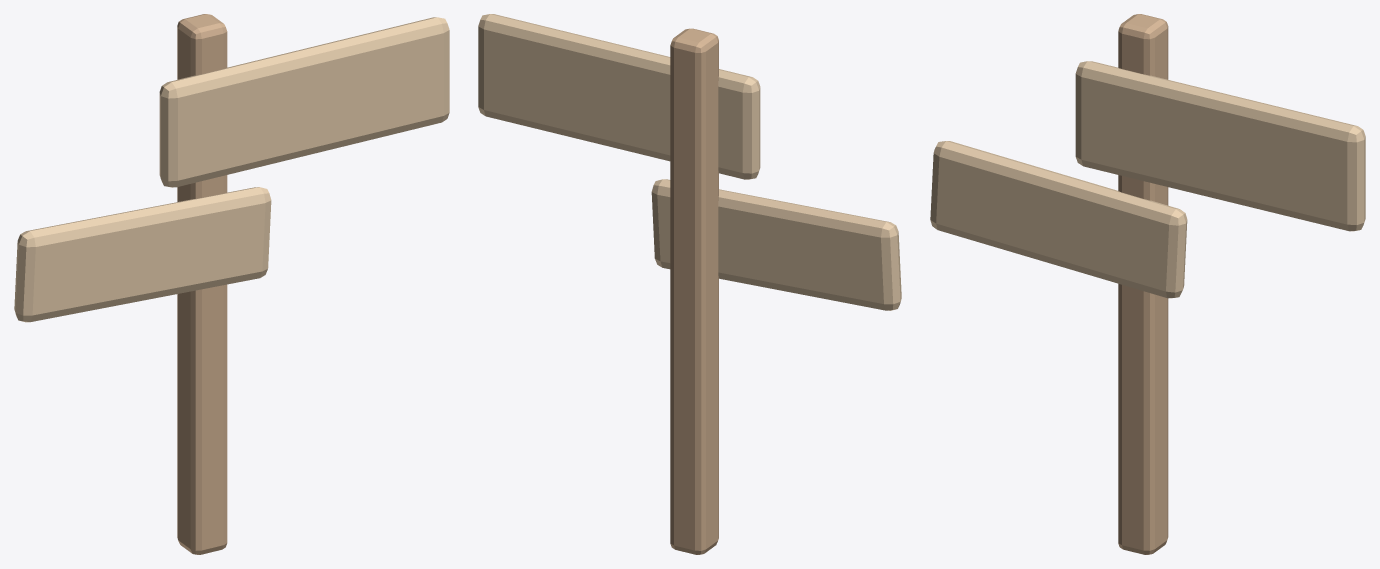
The model's file is signpost.glb.
3 views of the same model, side by side, from view 1: azimuth 30°, elevation 25°; view 2: azimuth 150°, elevation 25°; view 3: azimuth 330°, elevation 25° (orthographic). The views are drawn at different scales.
Parts seen in each view (by area): view 1: signpost; view 2: signpost; view 3: signpost.
Part boxes in pixels (box(x1,y1,x2,y2)): signpost: box(14, 14, 449, 554); signpost: box(478, 14, 901, 554); signpost: box(930, 14, 1365, 554).
Bounding box in the file's own units: 1.2 × 1.4 × 0.14.
